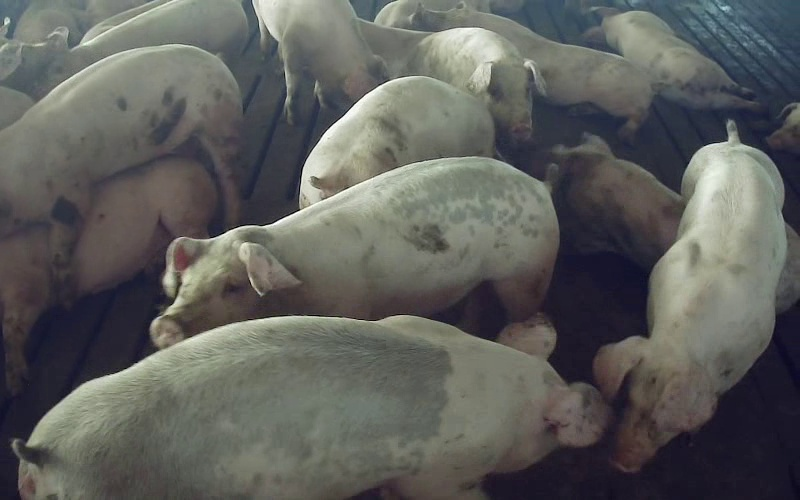pig: (12, 316, 608, 499), (151, 158, 558, 347), (594, 121, 786, 471), (412, 6, 653, 142), (299, 76, 494, 208), (583, 7, 760, 110), (552, 133, 684, 270), (253, 0, 387, 122), (408, 28, 545, 141)
